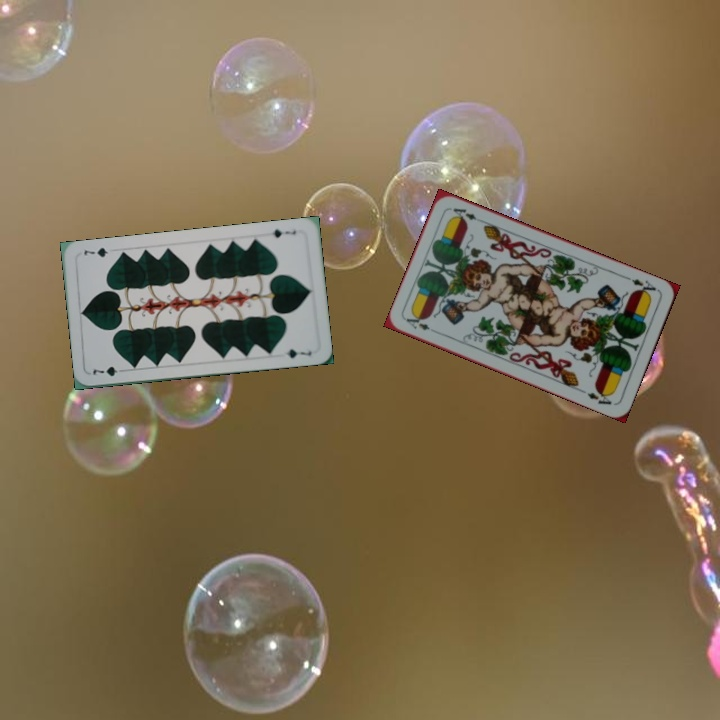EA: (402, 312, 441, 336), (622, 273, 659, 298)
G7: (89, 362, 129, 379), (268, 225, 299, 240)
